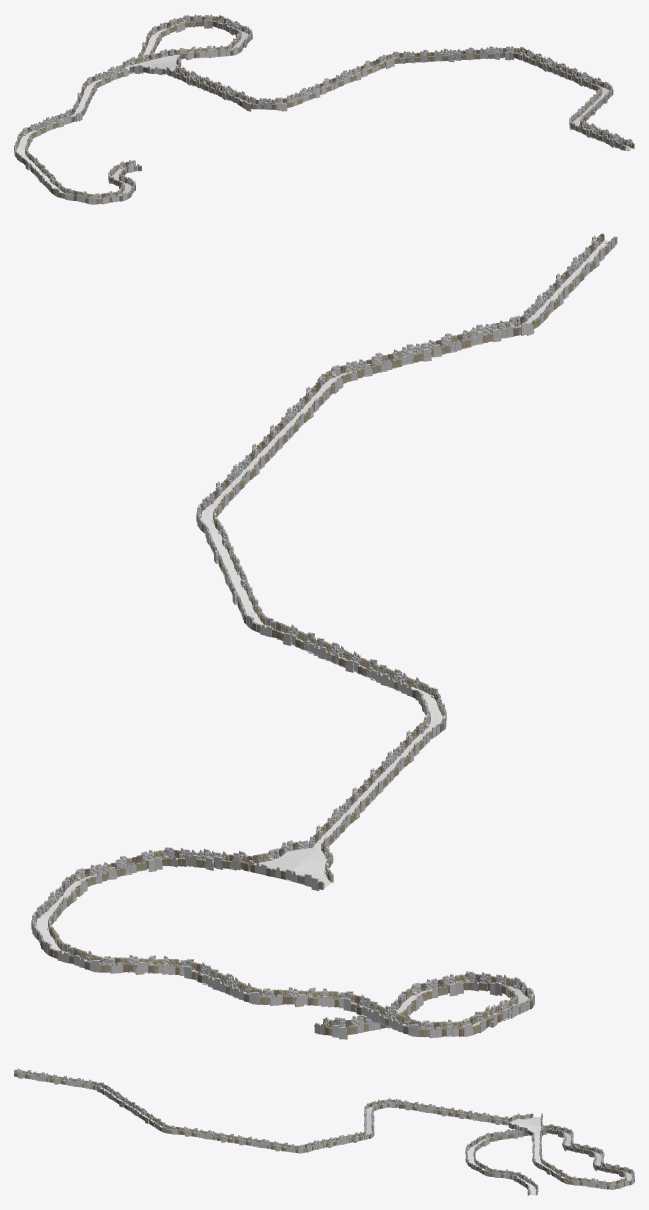
The model's file is AA_LEVEL1_NODES_TEST_FINAL.fbx.
3 renders of one model, top to bottom at view 1: azimuth 30°, elevation 25°; view 2: azimuth 150°, elevation 25°; view 3: azimuth 270°, elevation 25°, orthographic. The views are drawn at different scales.
Visible parts, largest first — view 1: Ground.103; view 2: Ground.103; view 3: Ground.103.
Boxes of the visible parts, x1,y1,x2,y2 form: Ground.103: [124, 54, 182, 73]; Ground.103: [248, 848, 331, 887]; Ground.103: [510, 1117, 541, 1136].
Size of the model in its own units: 33446 by 21879 by 67923.
